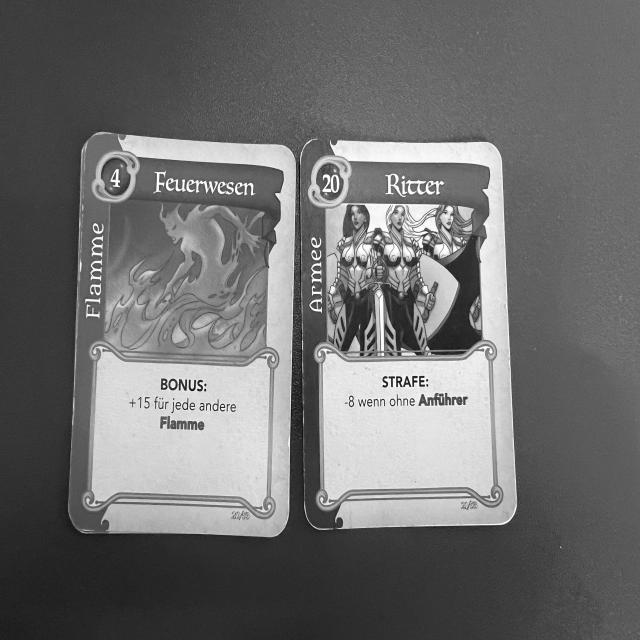Fire Elemental: (65, 122, 297, 538)
Knights: (300, 136, 521, 531)
